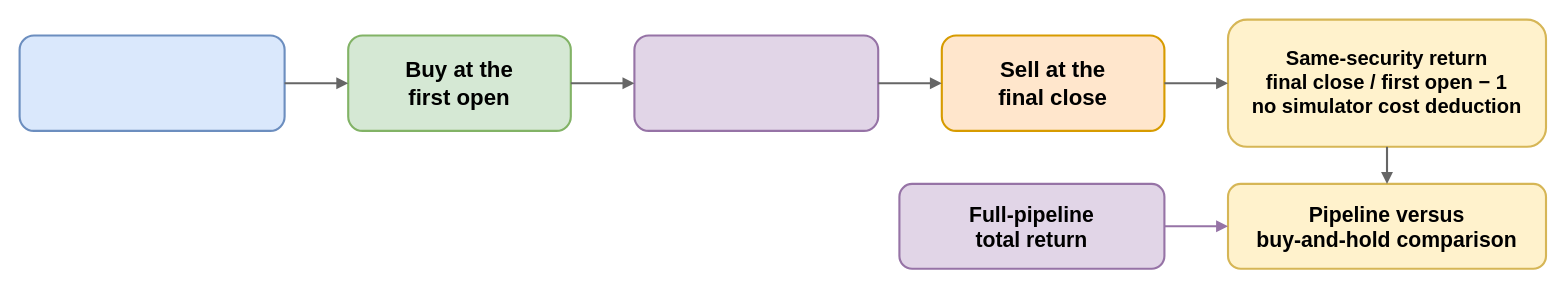
The diagram is 1565 pixels wide and 287 high, and some of its shapes have lost their labels. Each missing label, with the centre of its shape:
"Historical stock OHLCV within evaluation period" belongs at point (151, 82).
"Hold continuously through the period" belongs at point (756, 82).
